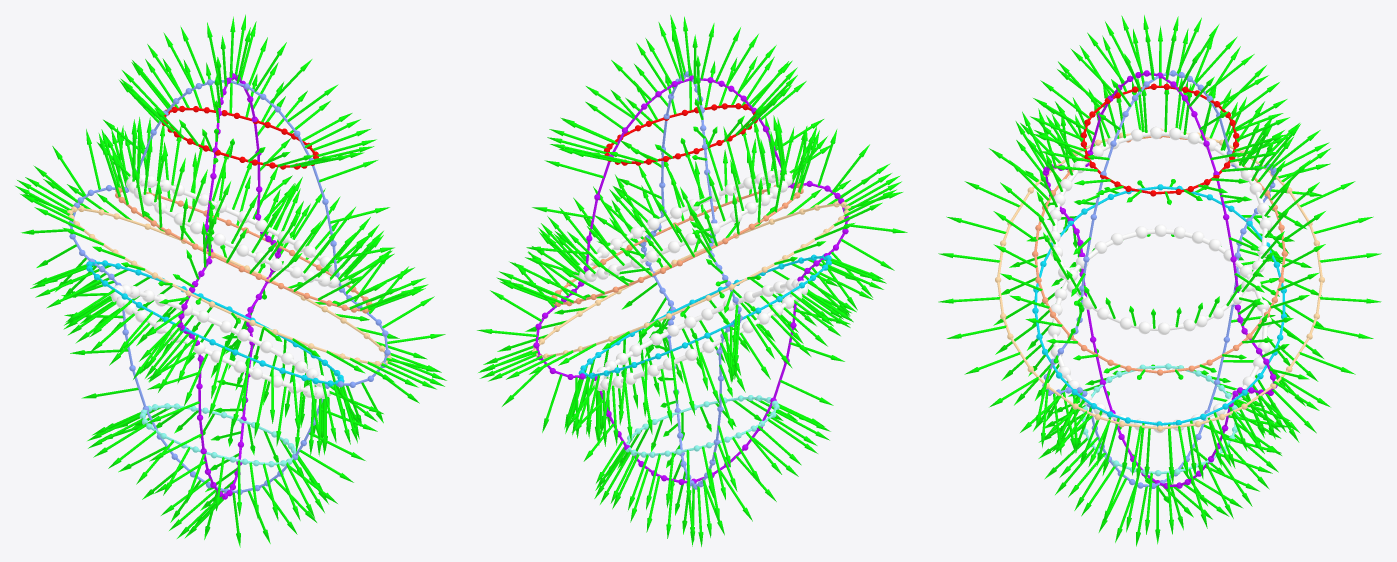
The model's file is flowrep_ellipsetorus.gltf.
The picture shows the model from 3 angles, left to right: view 1: azimuth 30°, elevation 25°; view 2: azimuth 150°, elevation 25°; view 3: azimuth 270°, elevation 25°; orthographic projection.
Bounding box in the file's own units: 0.6573 × 0.8995 × 0.6986.
